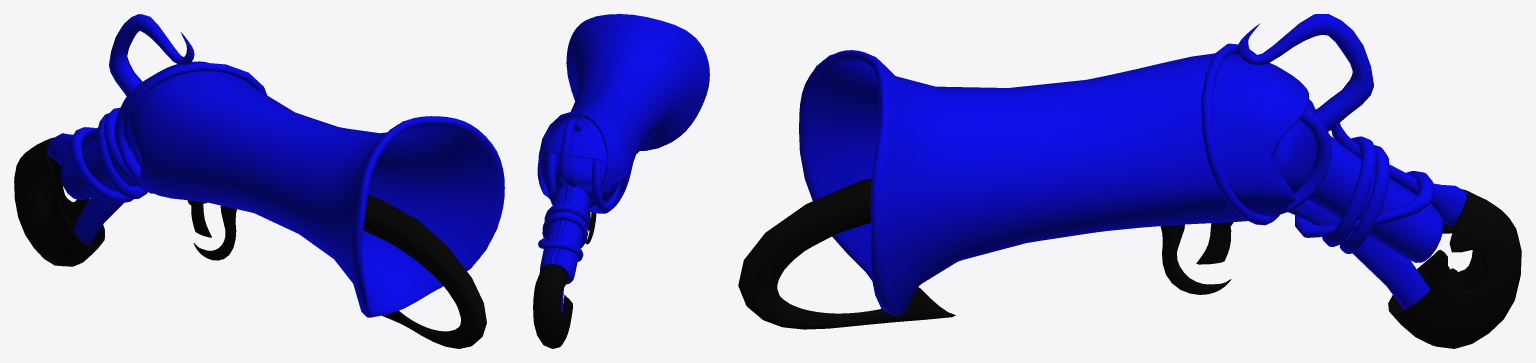
The model's file is Gun.fbx.
3 views of the same model, side by side, from view 1: azimuth 30°, elevation 25°; view 2: azimuth 150°, elevation 25°; view 3: azimuth 270°, elevation 25° (orthographic). The views are drawn at different scales.
Visible parts, largest first — view 1: Barell_high, Barell_low, Hook_low, SafetyPin_low, Rope_low, SafetyPin_high, Handle_low, Hook_high, Trigger1_low, LargeSpring_low, Rope_high; view 2: Barell_low, Barell_high, SafetyPin_low, Rope_low, Handle_low, Flint_low, LargeSpring_low, Hook_low, Rope_high, SafetyPin_high, Trigger1_low; view 3: Barell_low, Barell_high, SafetyPin_low, Hook_low, Rope_low, Handle_low, Hook_high, SafetyPin_high, Trigger1_low, Flint_low, LargeSpring_low, Rope_high.
Boxes of the visible parts, <box> form: Barell_high: <box>128,61,504,317</box>; Barell_low: <box>138,85,504,316</box>; Hook_low: <box>109,14,486,348</box>; SafetyPin_low: <box>14,124,137,266</box>; Rope_low: <box>70,62,266,203</box>; SafetyPin_high: <box>22,128,129,261</box>; Handle_low: <box>60,126,140,200</box>; Hook_high: <box>114,27,469,341</box>; Trigger1_low: <box>187,200,236,260</box>; LargeSpring_low: <box>115,94,140,184</box>; Rope_high: <box>79,70,257,197</box>; Barell_low: <box>537,14,708,213</box>; Barell_high: <box>537,14,709,213</box>; SafetyPin_low: <box>533,185,572,348</box>; Rope_low: <box>538,111,612,261</box>; Handle_low: <box>539,186,589,284</box>; Flint_low: <box>540,152,622,206</box>; LargeSpring_low: <box>546,152,621,213</box>; Hook_low: <box>558,108,639,187</box>; Rope_high: <box>542,114,605,260</box>; SafetyPin_high: <box>536,187,570,340</box>; Trigger1_low: <box>585,211,596,244</box>; Barell_low: <box>799,51,1284,314</box>; Barell_high: <box>799,50,1309,315</box>; SafetyPin_low: <box>1288,123,1521,348</box>; Hook_low: <box>738,14,1373,329</box>; Rope_low: <box>1201,43,1434,253</box>; Handle_low: <box>1308,135,1443,262</box>; Hook_high: <box>752,16,1369,328</box>; SafetyPin_high: <box>1292,125,1503,343</box>; Trigger1_low: <box>1160,222,1233,294</box>; Flint_low: <box>1274,99,1316,194</box>; LargeSpring_low: <box>1279,107,1331,214</box>; Rope_high: <box>1211,48,1431,242</box>.
Bounding box in the file's own units: 2.07 × 2.36 × 4.72.
